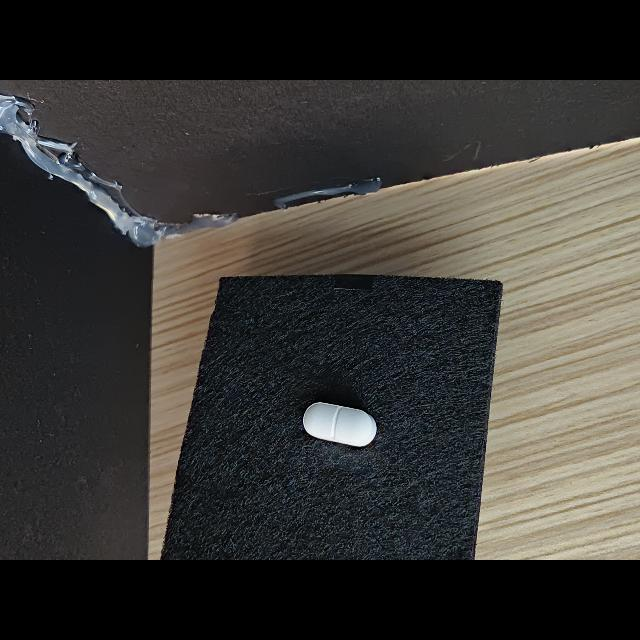Intact Pill: (303, 402, 377, 447)
